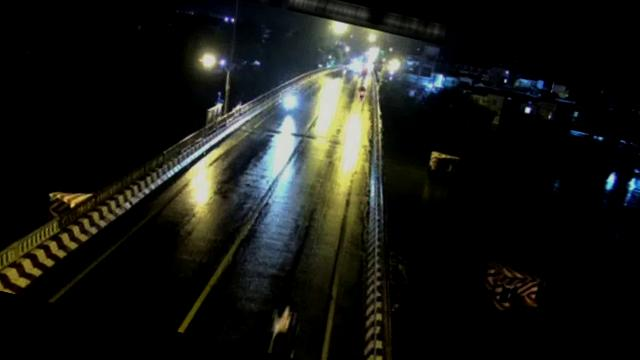Bike: (278, 89, 300, 115)
